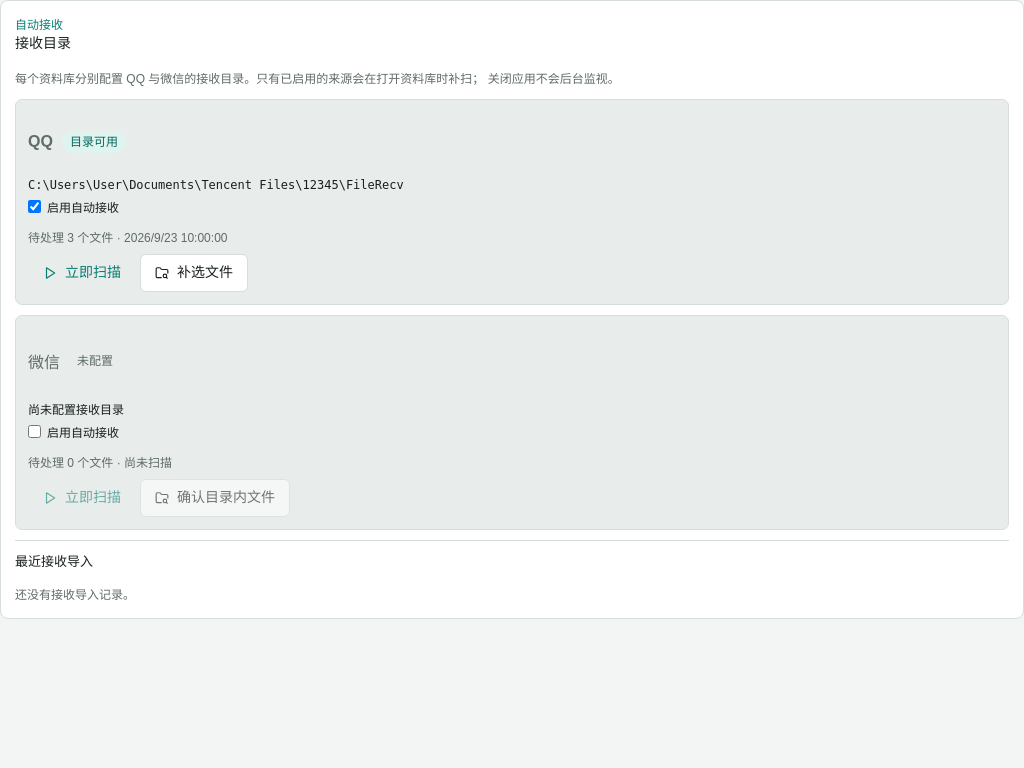
Test case: 接收目录配置 › shows the scan counts of the source
Expected: the heading "QQ" is shown, [28,133,53,151]
Click the button with aria-label "扫描 QQ 接收目录" at (82, 273), box [28,254,136,292]
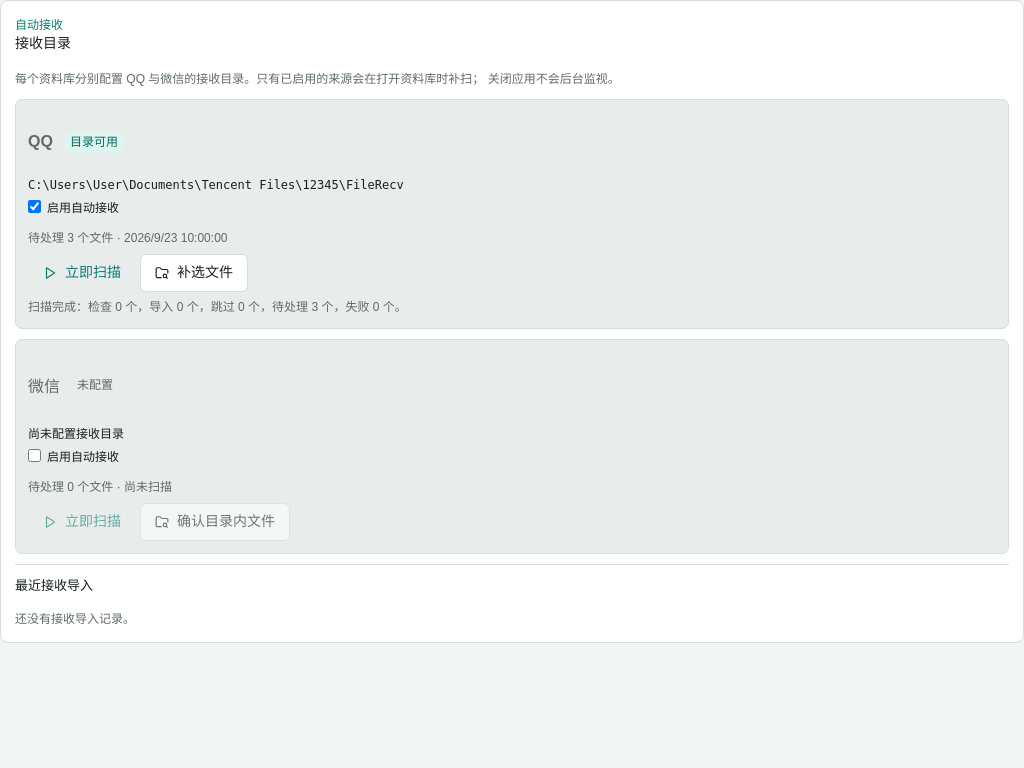
Now the text "扫描完成：检查 0 个，导入 0 个，跳过 0 个，待处理 3 个，失败 0 个。" is shown, box [28,300,407,314]
